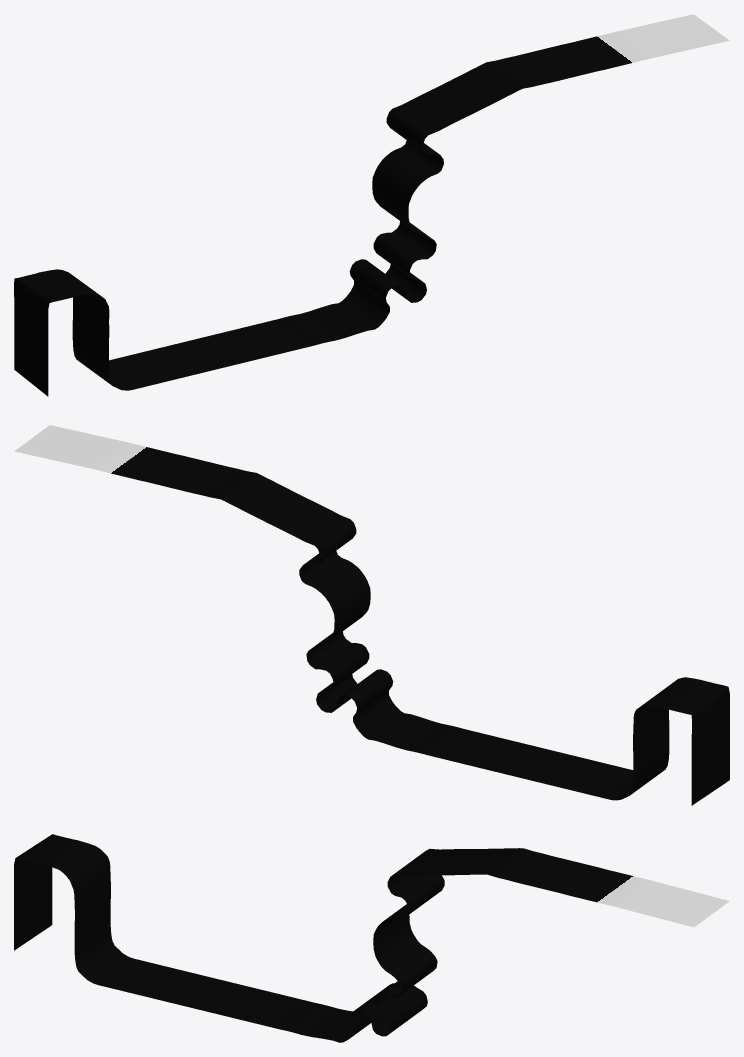
3 views of the same model, one above another, from view 1: azimuth 30°, elevation 25°; view 2: azimuth 150°, elevation 25°; view 3: azimuth 330°, elevation 25° (orthographic).
Visible parts, largest first — view 1: 平面; view 2: 平面; view 3: 平面.
Boxes of the visible parts, x1,y1,x2,y2 form: 平面: (14,14,729,396); 平面: (14,425,729,805); 平面: (14,834,729,1042).
Size of the model in its own units: 6.53 by 1.89 by 0.609.
1 material, 1 textured.
